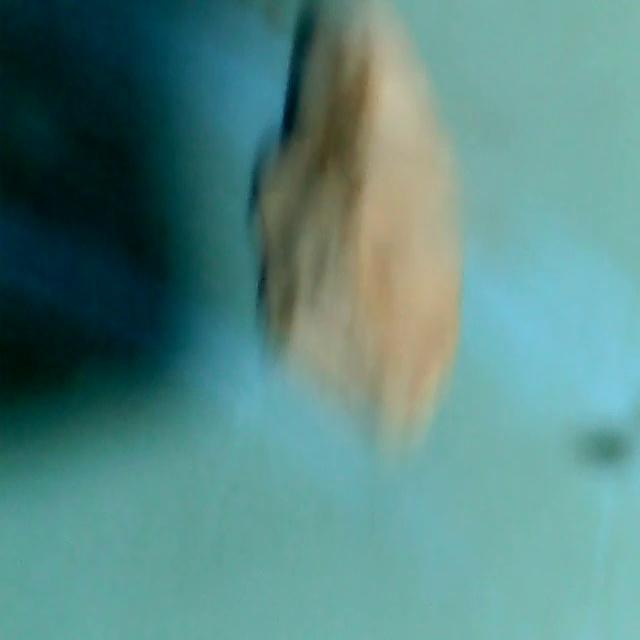rock: (250, 0, 483, 448)
